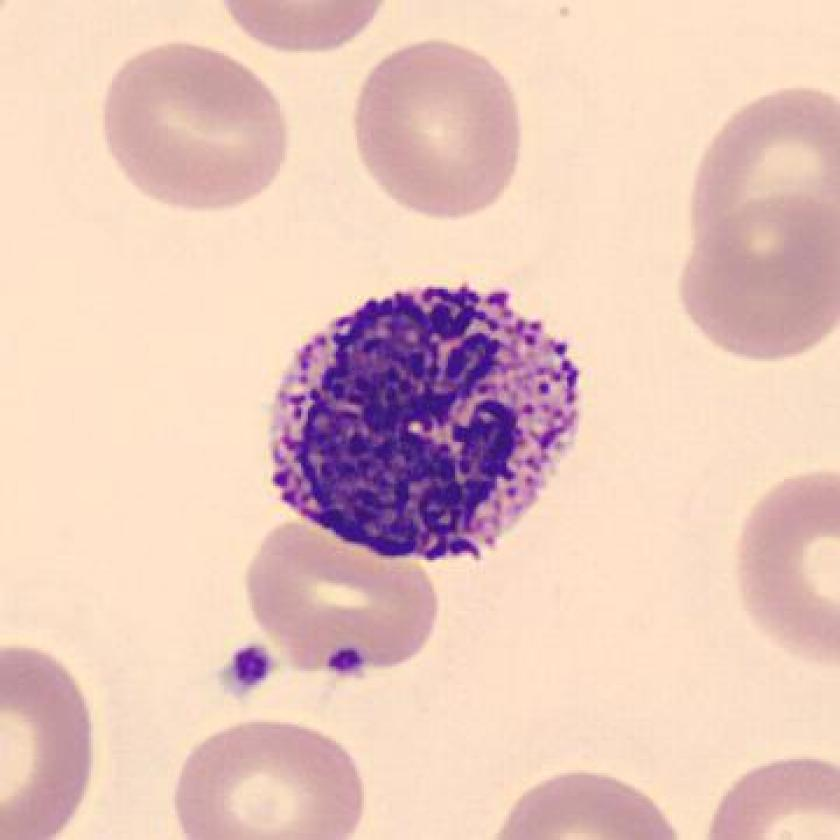basophil: (269, 279, 587, 566)
